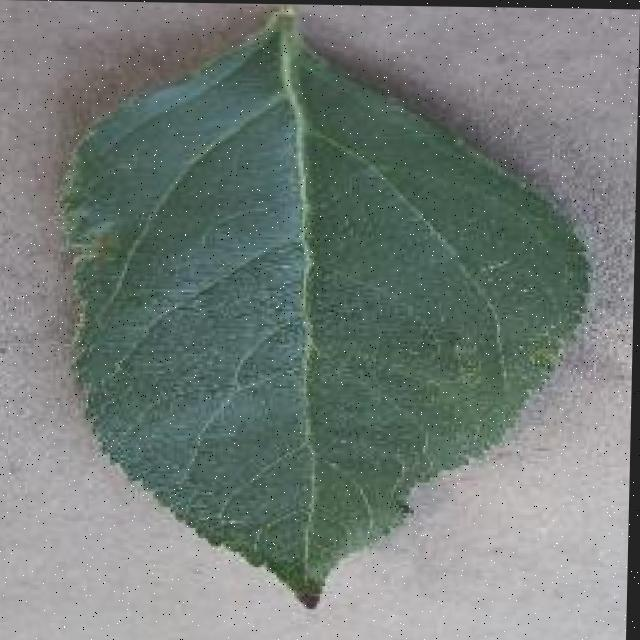healthy: (48, 1, 604, 626)
